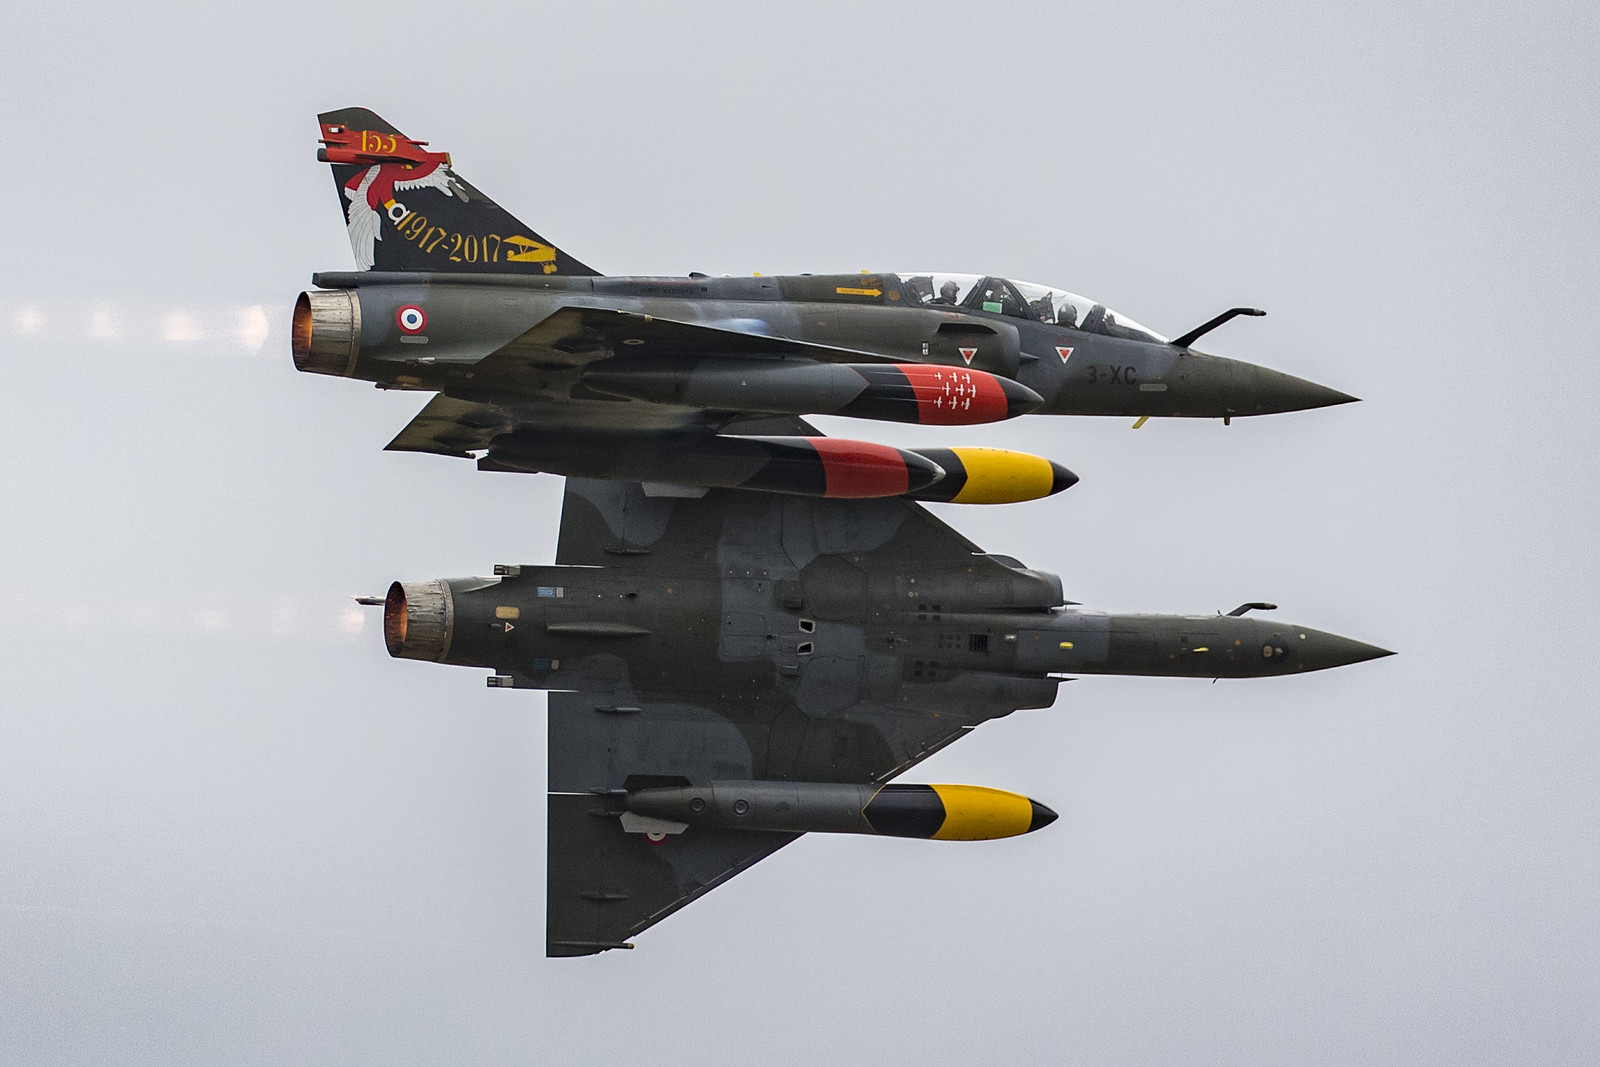Mirage2000: (350, 414, 1399, 957), (290, 107, 1363, 500)
